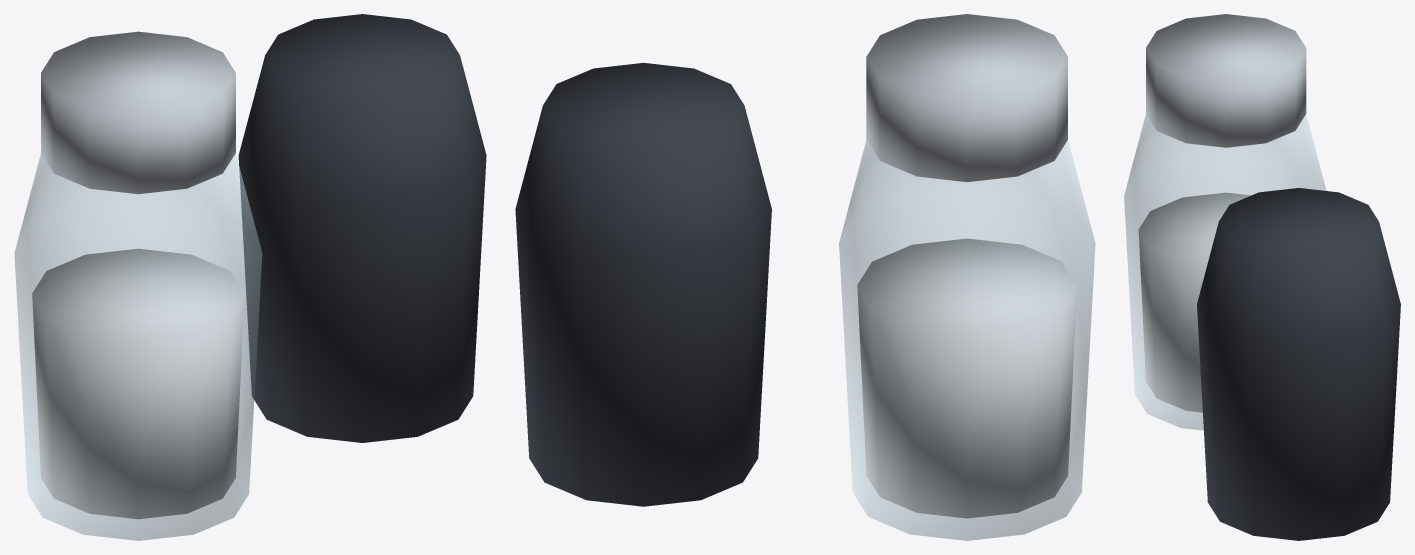
Rendered from SaltShaker.fbx.
3 renders of one model, left to right at view 1: azimuth 30°, elevation 25°; view 2: azimuth 150°, elevation 25°; view 3: azimuth 270°, elevation 25°, orthographic. The views are drawn at different scales.
Parts seen in each view (by area): view 1: SaltShakerBody; view 2: SaltShakerBody; view 3: SaltShakerBody.
Part boxes in pixels (x1,y1,x2,y2): SaltShakerBody: (14,14,486,540); SaltShakerBody: (515,14,1095,540); SaltShakerBody: (1124,14,1400,540).
Bounding box in the file's own units: 0.126 × 0.105 × 0.076.
